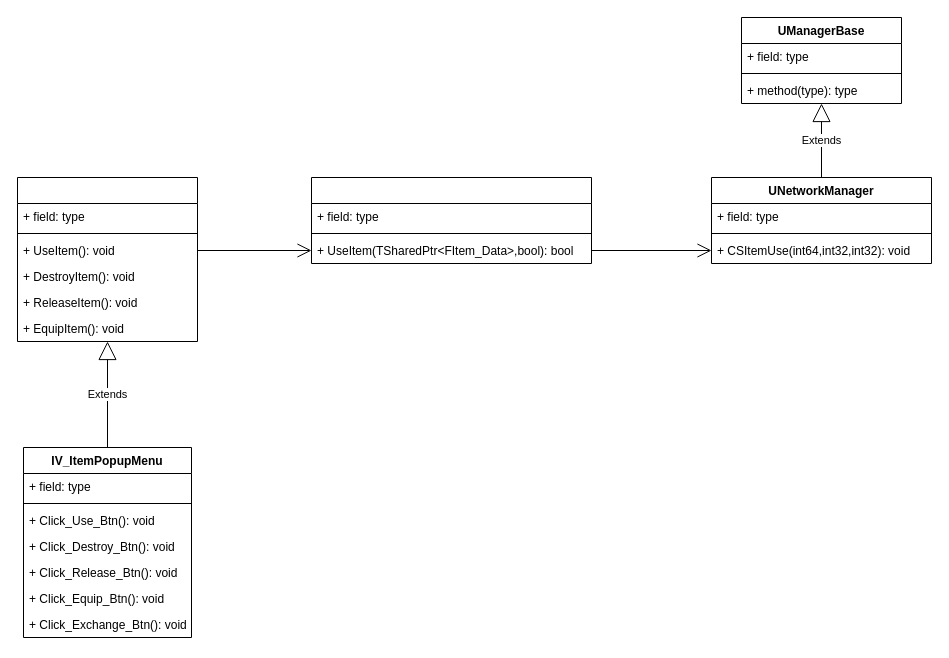
This 949x658 diagram has some shape labels left out. Here are the shapes that lost their labels. From the top down, the box of each, then its label:
(310, 176, 592, 264): UMirUtil
(16, 176, 198, 342): ItemInfoMenuPrefab(BP)
